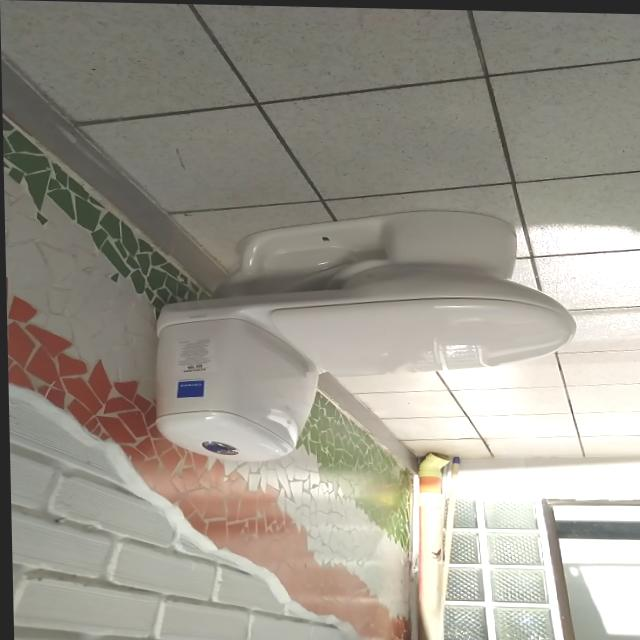toilet: (149, 203, 578, 468)
